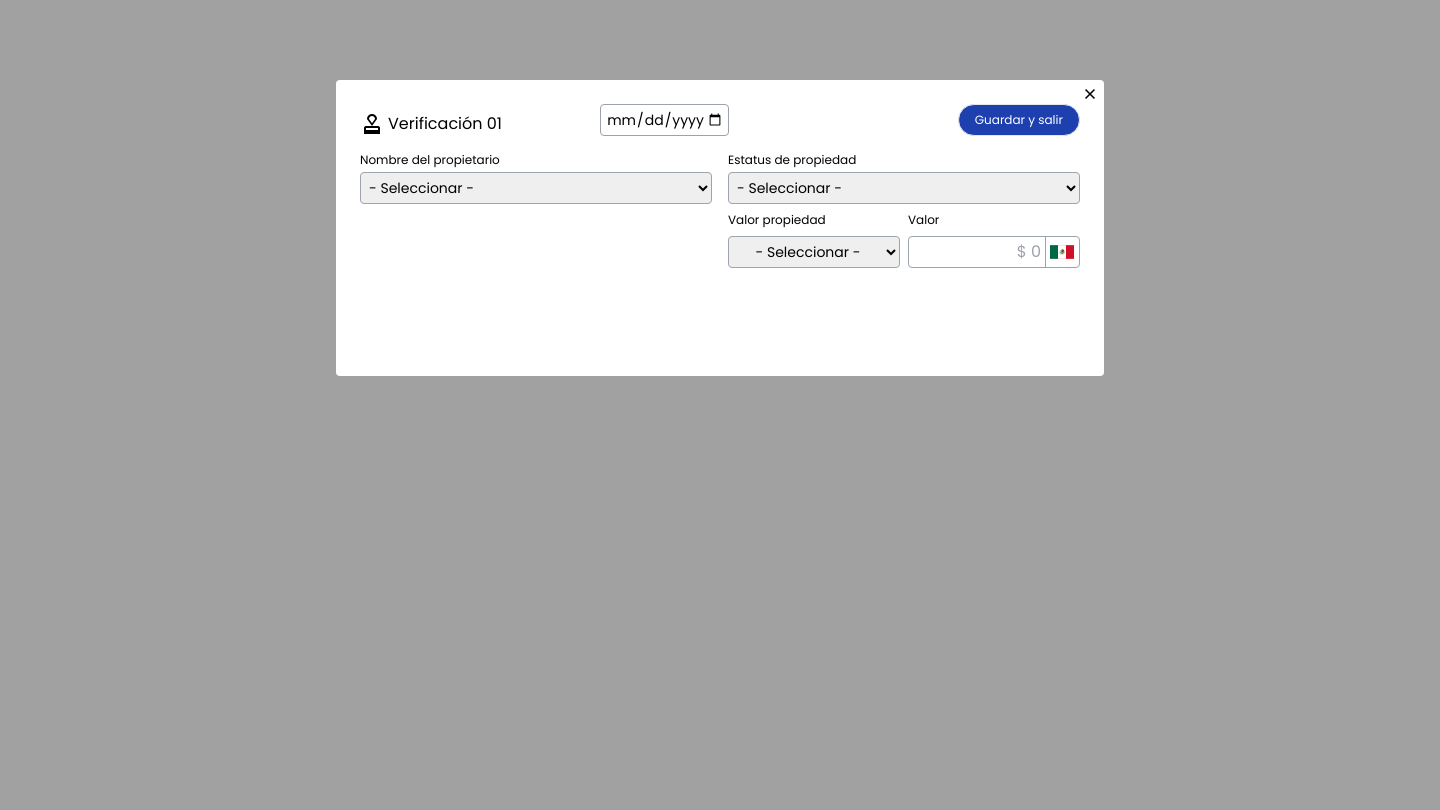
it: VerificationForm › It should display the applicant and obligateds when selecting "Co-propietario (Solicitante y Obligado Solidario)".
Select "Co-propietario (Solicitante y Obligado Solidario)" in the dropdown labelled "Nombre del propietario" at (536, 188), box [360,172,712,204]
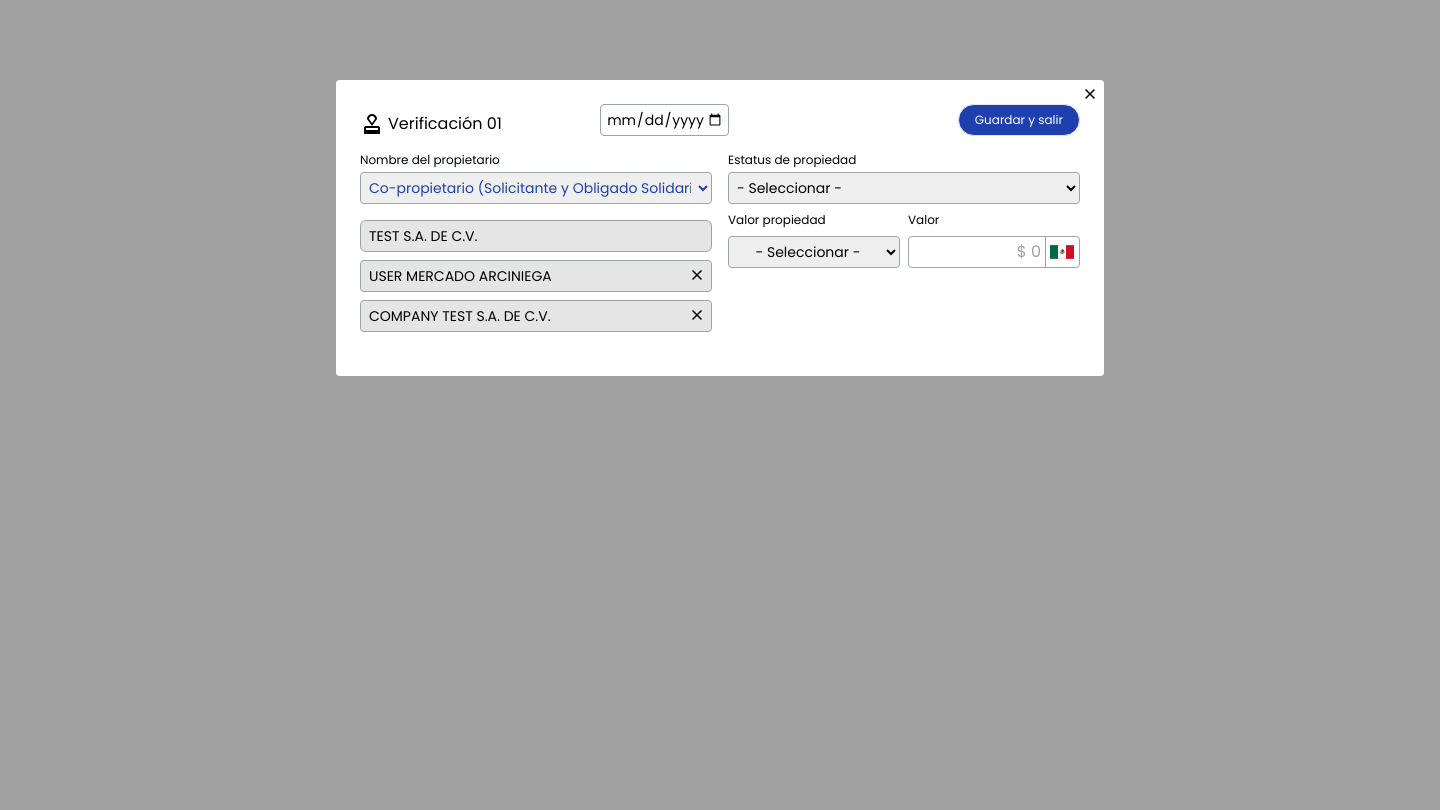
Check: the text "TEST S.A. DE C.V." is shown, box [360,220,712,252]
Check: the text "USER MERCADO ARCINIEGA" is shown, box [360,260,712,292]
Check: the text "COMPANY TEST S.A. DE C.V." is shown, box [360,300,712,332]
